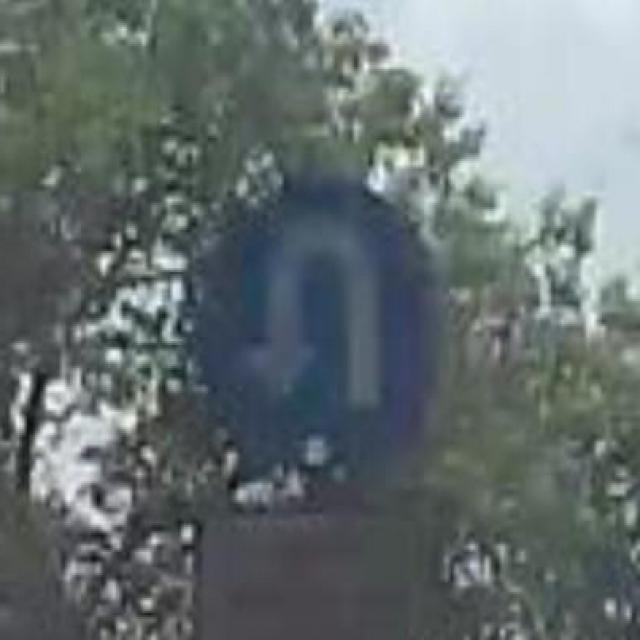U-turn: (232, 203, 396, 450)
